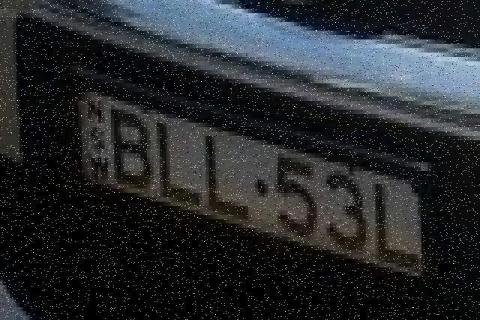LicensePlate: (64, 67, 438, 289)
